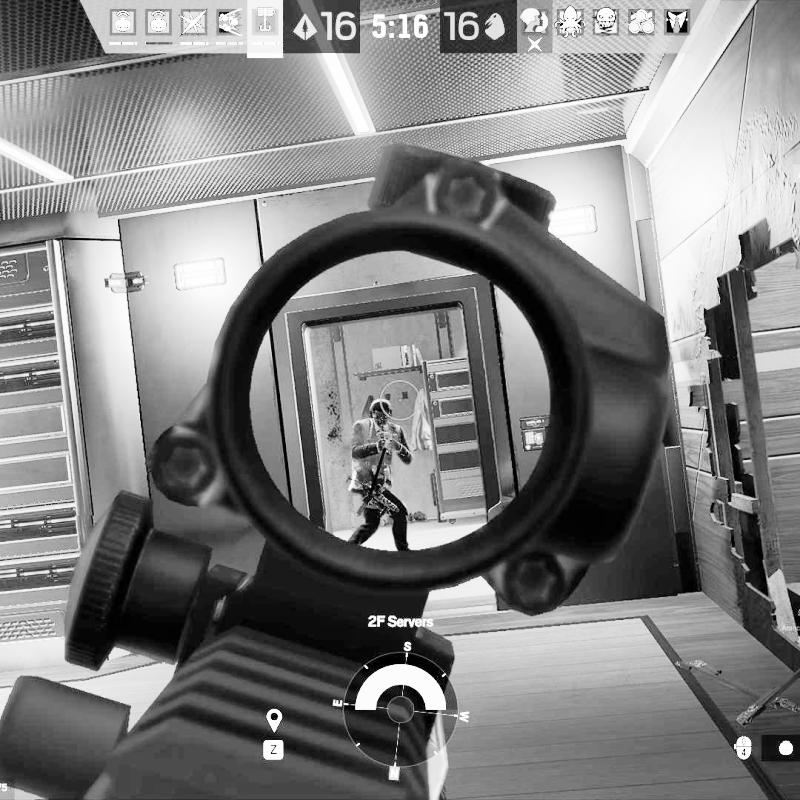Character: (348, 398, 416, 552)
Head: (370, 398, 393, 428)
